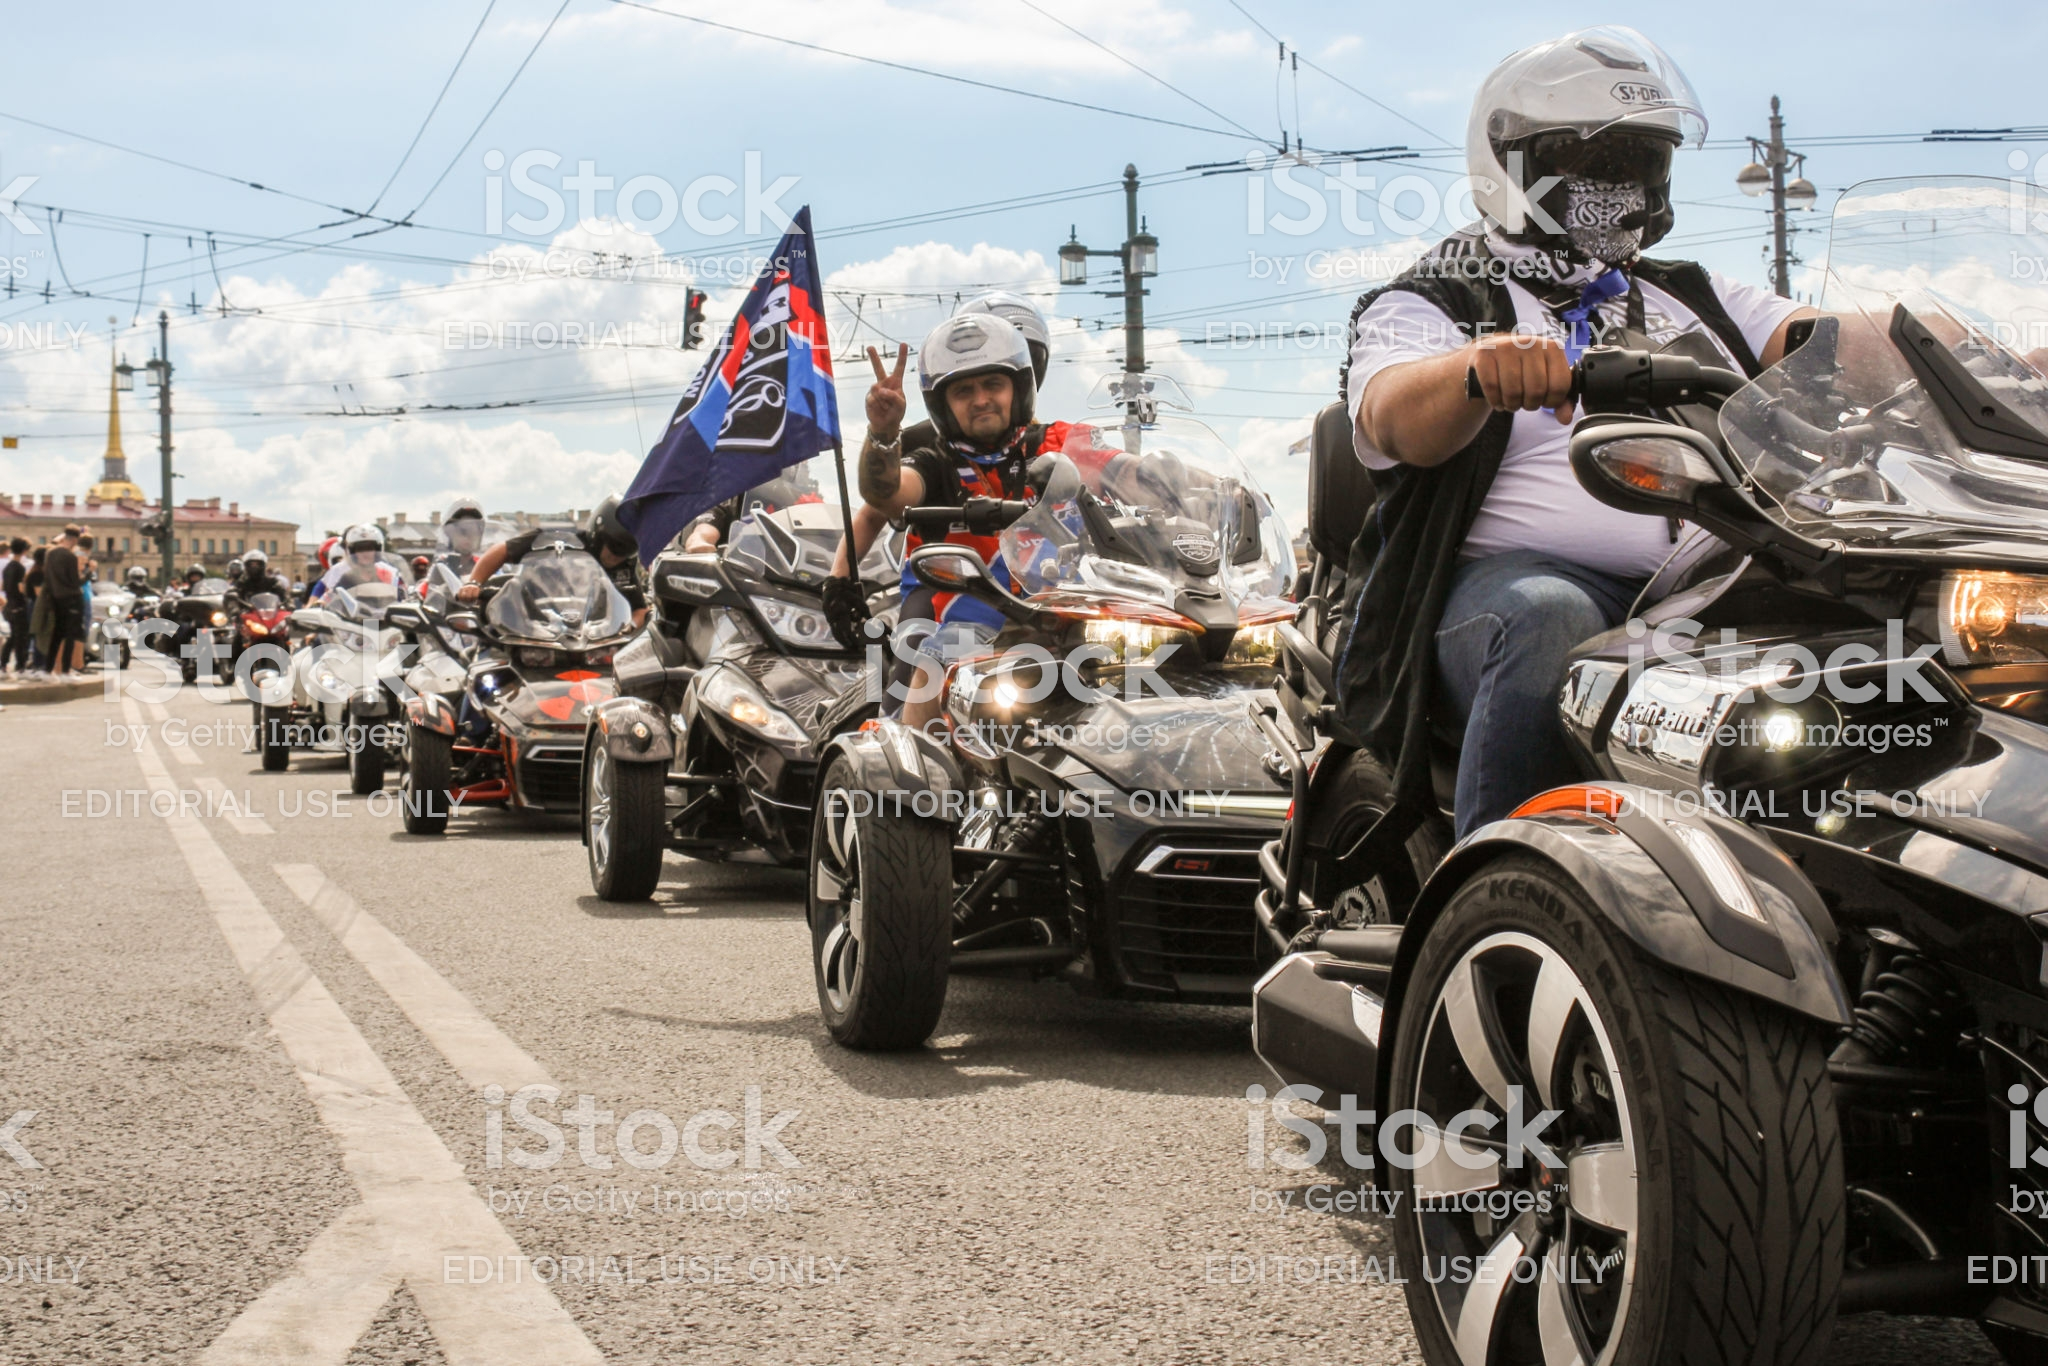helmet: (1461, 44, 1694, 255), (911, 322, 1044, 402), (949, 293, 1059, 367)
